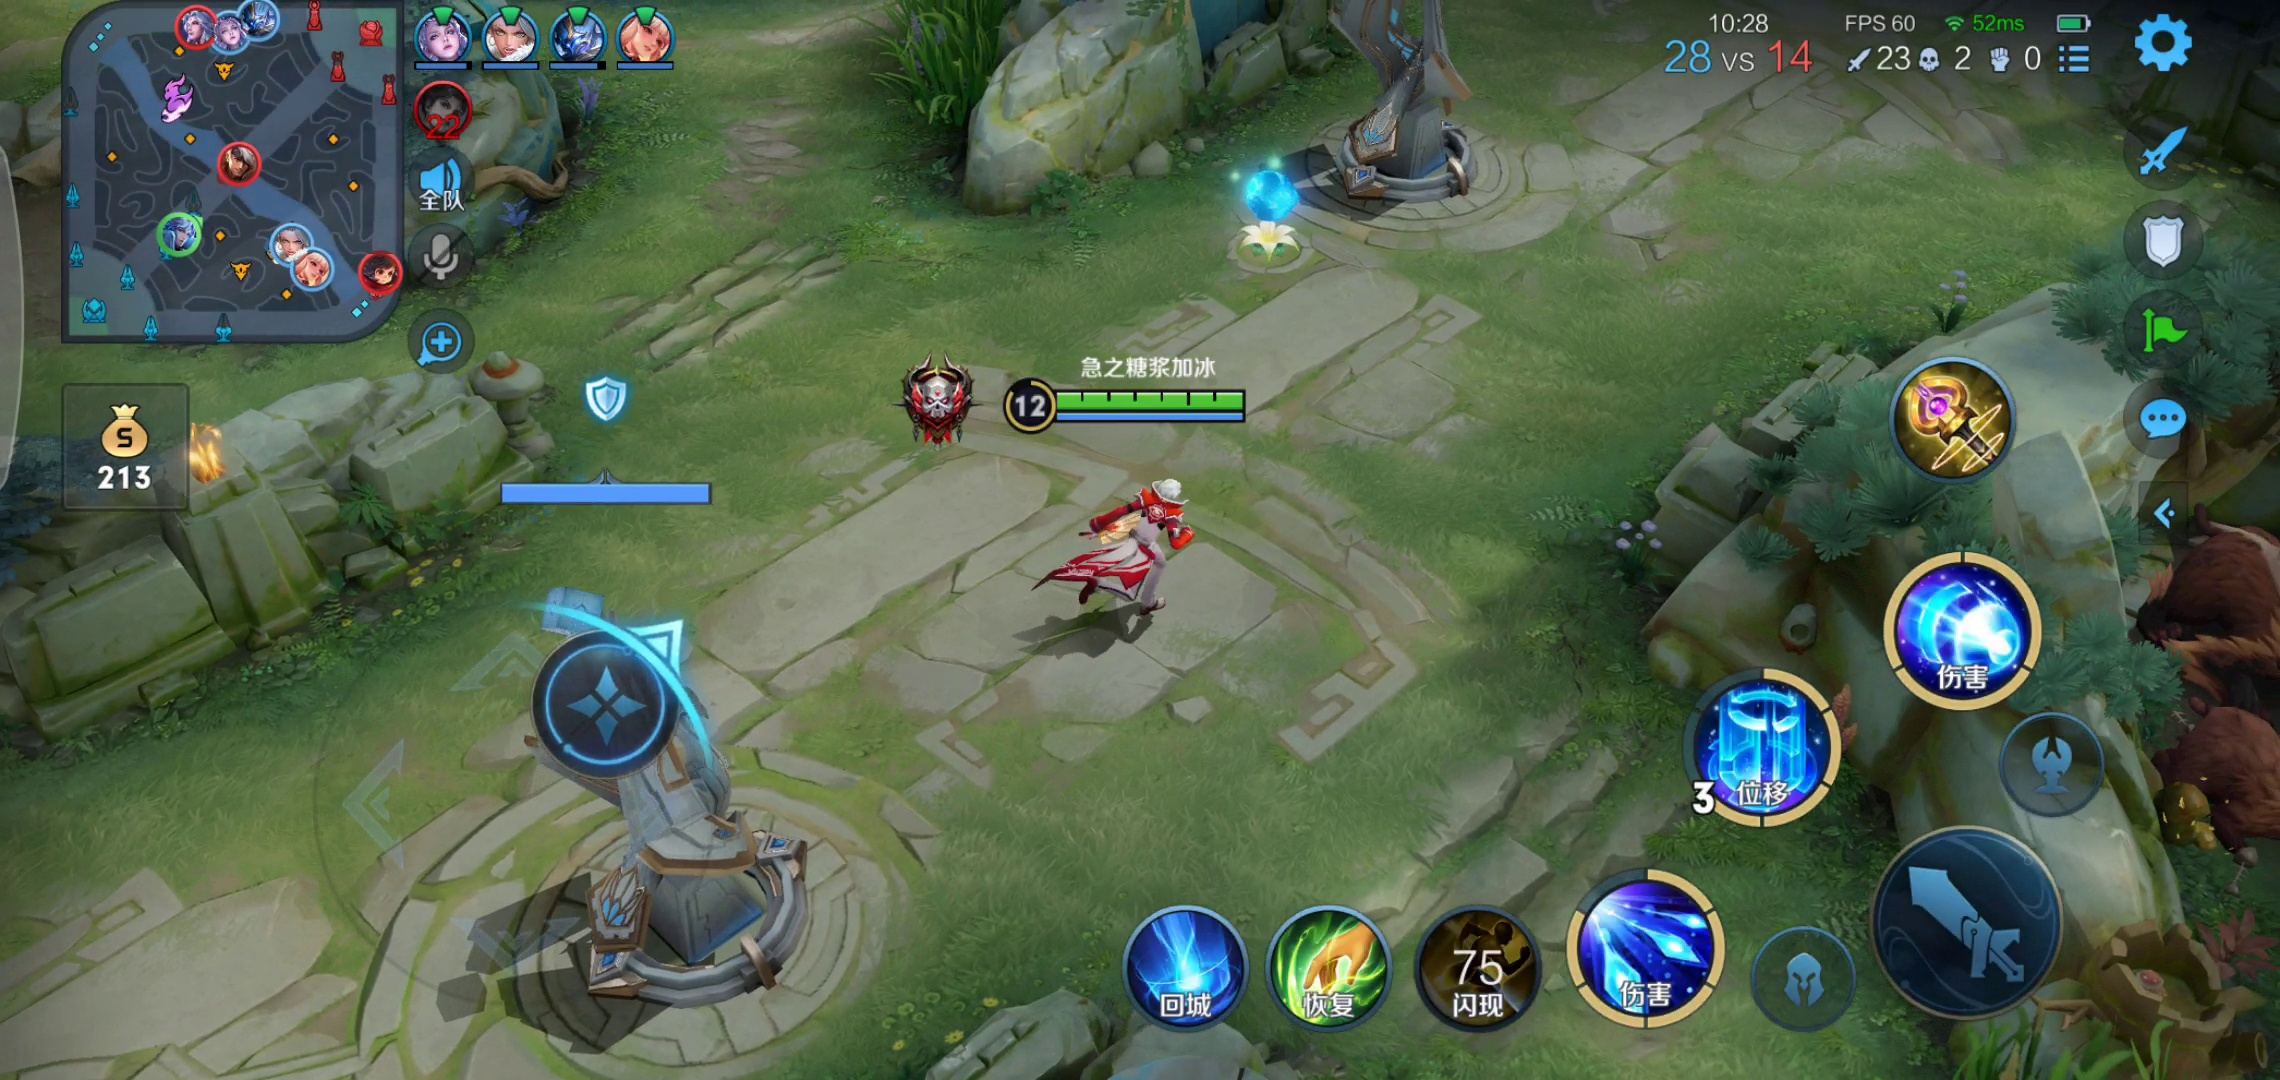grass: (826, 4, 1028, 180)
hero: (1040, 470, 1239, 635)
tower: (462, 600, 842, 1015), (1256, 4, 1540, 209)
wild_monster: (2136, 509, 2280, 823)
